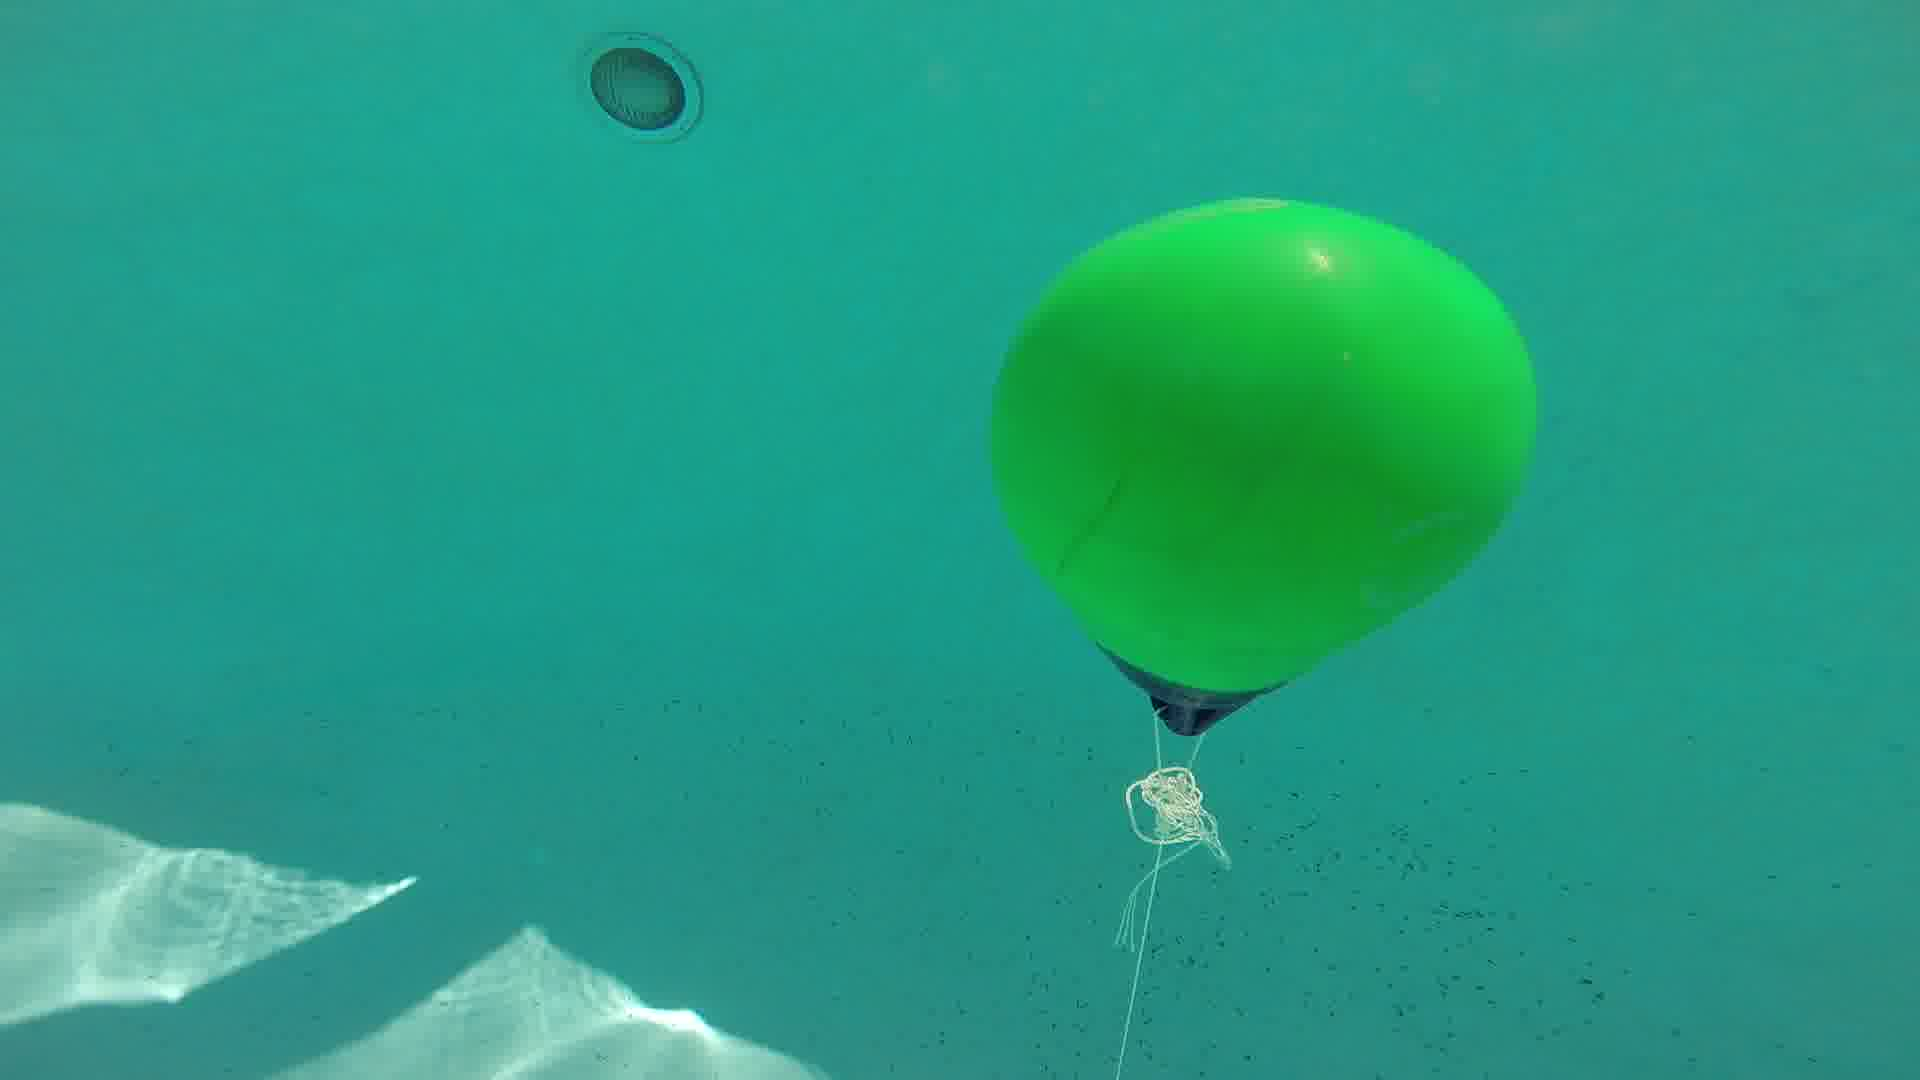yellow_buoy: (993, 202, 1539, 738)
